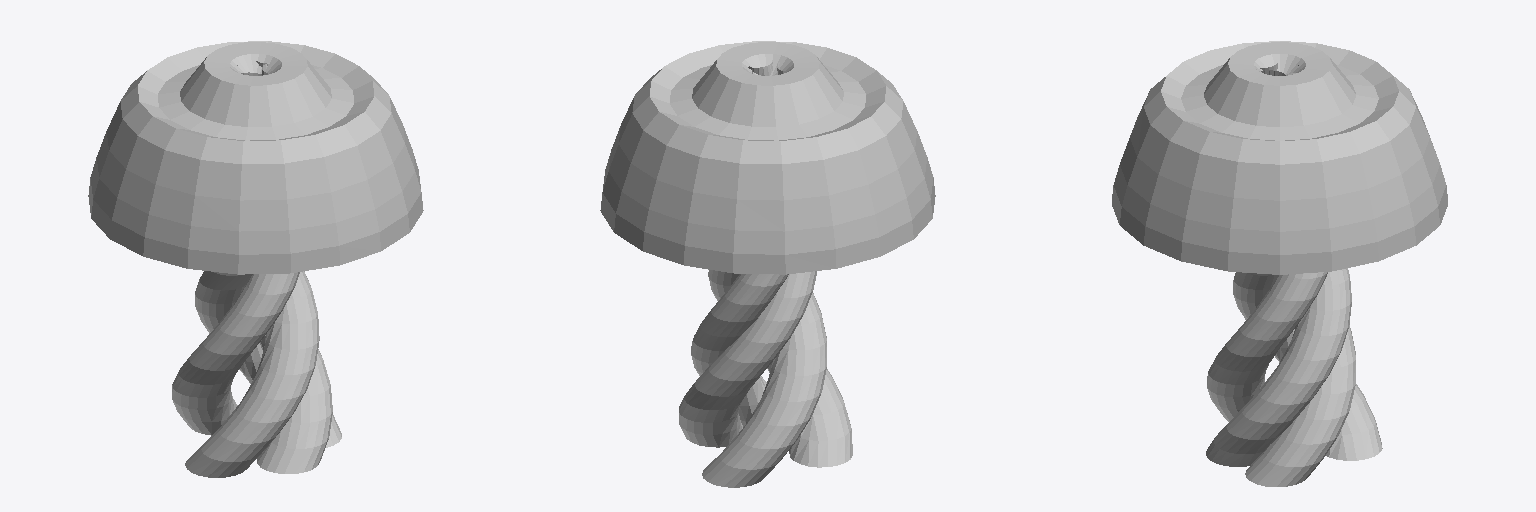
File: tree.obj
The picture shows the model from 3 angles: view 1: azimuth 30°, elevation 25°; view 2: azimuth 150°, elevation 25°; view 3: azimuth 270°, elevation 25°; orthographic projection.
Parts seen in each view (by area): view 1: polySurface2; view 2: polySurface2; view 3: polySurface2.
Boxes of the visible parts, x1,y1,x2,y2 form: polySurface2: [88, 41, 423, 477]; polySurface2: [600, 41, 935, 487]; polySurface2: [1112, 41, 1447, 486].
Bounding box in the file's own units: 3.32 × 4.17 × 3.32.